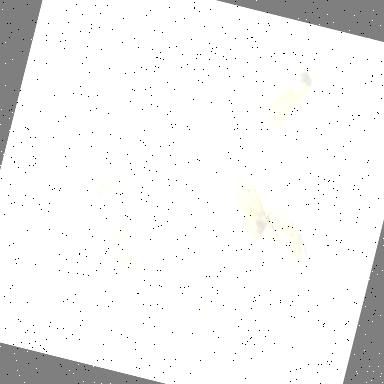abw: (79, 115, 160, 218), (242, 49, 322, 150), (199, 155, 283, 247), (87, 213, 162, 310), (166, 245, 228, 346), (250, 193, 326, 272)
